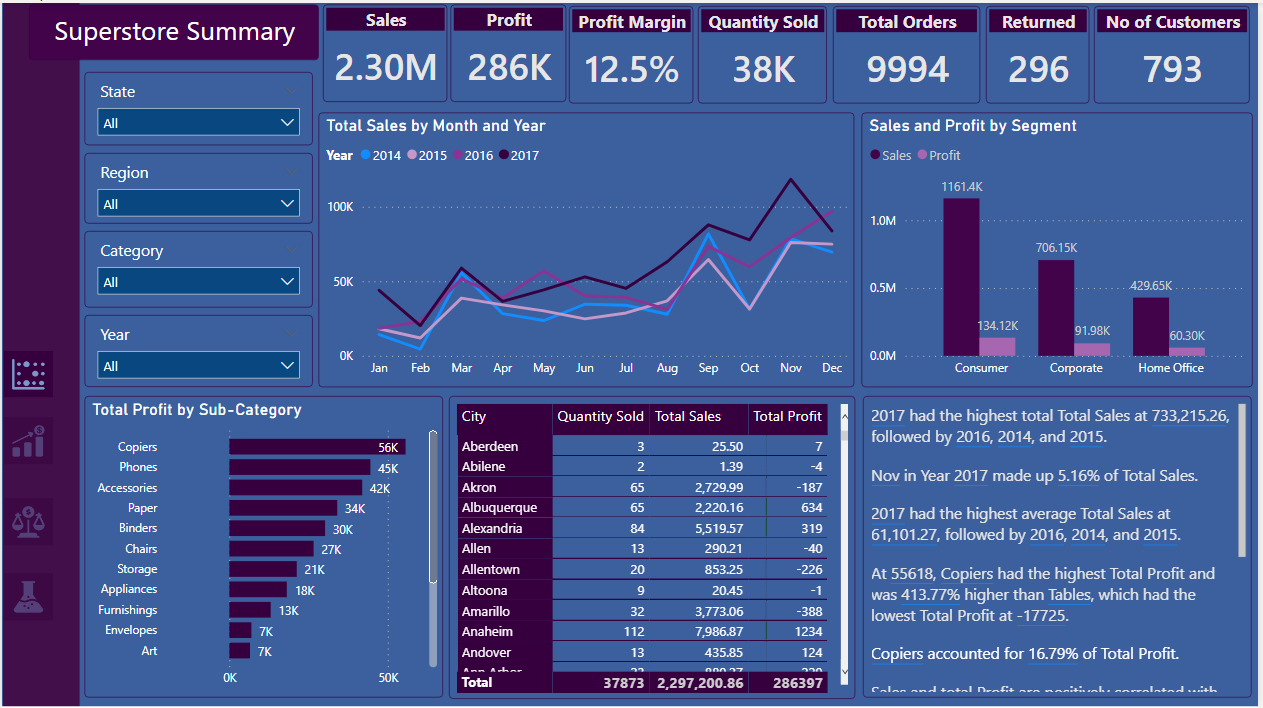

This screenshot's page, from the dashboard's own definition file:
{"tool":"powerbi","page":{"name":"Summary","canvas":[1280,720],"ordinal":0},"visuals":[{"type":"slicer","title":"Segment","fields":{"Values":["Orders.Region"]},"box":[84.1,152.9,232.4,71.8],"z":0},{"type":"slicer","title":"State","fields":{"Values":["Orders.State"]},"box":[84.1,70.3,232.4,74.9],"z":1000},{"type":"slicer","title":"Category","fields":{"Values":["Orders.Category"]},"box":[84.1,232.4,232.4,78],"z":2000},{"type":"slicer","title":"Order Year","fields":{"Values":["Orders.Order Year"]},"box":[84.1,318,232.4,73.4],"z":3000},{"type":"barChart","fields":{"Category":["Orders.Sub-Category"],"Y":["measure Table.Total Profit"]},"box":[84.1,400.5,365.4,307.3],"z":4000},{"type":"pivotTable","fields":{"Values":["measure Table.Quantity Sold","measure Table.Total Sales","measure Table.Total Profit"],"Rows":["Orders.City"]},"box":[455.5,400.5,414.3,308.8],"z":5000},{"type":"lineChart","fields":{"Category":["Orders.Month"],"Y":["measure Table.Total Sales"],"Series":["Orders.Year"]},"box":[322.5,111.6,545.7,279.7],"z":6000},{"type":"card","title":"Returned","fields":{"Values":["measure Table.Returned"]},"box":[1002.8,3.8,105.5,99.4],"z":7000},{"type":"textbox","box":[27.5,1.5,295,56.6],"z":8000},{"type":"card","title":"Sales","fields":{"Values":["measure Table.Revenue"]},"box":[327.1,1.5,126.9,99.4],"z":9000},{"type":"card","title":"Profit","fields":{"Values":["measure Table.Total Profit"]},"box":[457.1,2.2,117.7,99.4],"z":10000},{"type":"card","title":"Quantity Sold","fields":{"Values":["measure Table.Quantity Sold"]},"box":[709.3,3.8,131.5,99.4],"z":11000},{"type":"card","title":"Profit Margin","fields":{"Values":["measure Table.Profit Margin"]},"box":[577.8,3.8,126.9,99.4],"z":12000},{"type":"card","title":"No of Customers","fields":{"Values":["measure Table.Total Customers"]},"box":[1112.9,3.8,159,99.4],"z":13000},{"type":"clusteredColumnChart","fields":{"Category":["Orders.Segment"],"Y":["Sum(Orders.Sales)","Sum(Orders.Profit)"]},"box":[875.9,111.6,399,279.7],"z":14000},{"type":"card","title":"Total Orders","fields":{"Values":["measure Table.Total Orders"]},"box":[846.9,3.8,149.8,99.4],"z":15000},{"type":"actionButton","box":[1.5,421.9,50.4,48.9],"z":16000},{"type":"actionButton","box":[1.5,504.5,50.4,48.9],"z":17000},{"type":"actionButton","box":[1.5,580.9,50.4,48.9],"z":18000},{"type":"actionButton","box":[1.5,354.6,50.4,47.4],"z":19000},{"type":"textbox","box":[877.5,400.5,395.9,307.3],"z":20000}]}

Visuals, with their boxes on the page's 1280x720 design canvas (x1, y1, x2, y2). These are canvas units, not pixel positions in the 1263x708 screenshot, which may show the page scaled, cropped or inside an application window:
"Segment" slicer: box(84, 153, 316, 225)
"State" slicer: box(84, 70, 316, 145)
"Category" slicer: box(84, 232, 316, 310)
"Order Year" slicer: box(84, 318, 316, 391)
barChart - Orders.Sub-Category x measure Table.Total Profit: box(84, 400, 450, 708)
pivotTable - measure Table.Quantity Sold x measure Table.Total Sales: box(456, 400, 870, 709)
lineChart - Orders.Month x measure Table.Total Sales: box(322, 112, 868, 391)
"Returned" card: box(1003, 4, 1108, 103)
textbox: box(28, 2, 322, 58)
"Sales" card: box(327, 2, 454, 101)
"Profit" card: box(457, 2, 575, 102)
"Quantity Sold" card: box(709, 4, 841, 103)
"Profit Margin" card: box(578, 4, 705, 103)
"No of Customers" card: box(1113, 4, 1272, 103)
clusteredColumnChart - Orders.Segment x Sum(Orders.Sales): box(876, 112, 1275, 391)
"Total Orders" card: box(847, 4, 997, 103)
actionButton: box(2, 422, 52, 471)
actionButton: box(2, 504, 52, 553)
actionButton: box(2, 581, 52, 630)
actionButton: box(2, 355, 52, 402)
textbox: box(878, 400, 1273, 708)
